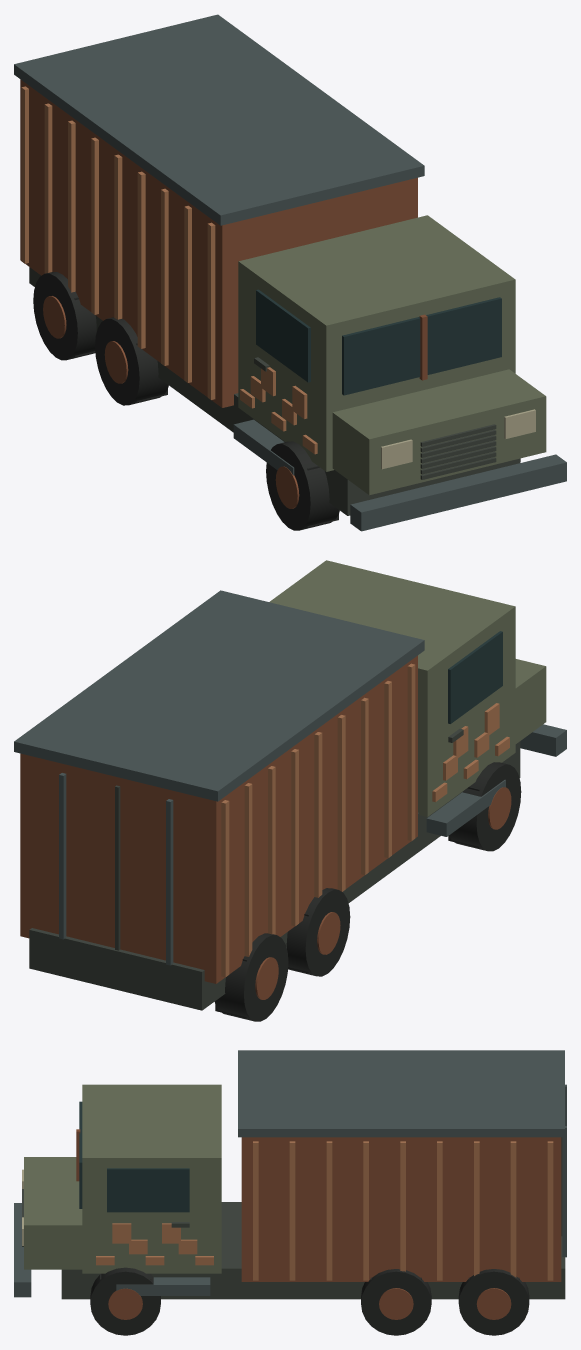
Rendered from FSA_ENV_Outdoor_Truck_01_Cargo.glb.
3 renders of one model, top to bottom at view 1: azimuth 30°, elevation 25°; view 2: azimuth 150°, elevation 25°; view 3: azimuth 270°, elevation 25°, orthographic. The views are drawn at different scales.
Visible parts, largest first — view 1: CargoRoof, CargoBody, Cab, Hood, Windshield, Bumper, Frame, Wheel_-1_2_5, Wheel_-1_-1_1, Wheel_-1_-2_4, SideWindow_-1, Rib_-1_5 (+14 smaller); view 2: CargoBody, CargoRoof, Cab, Frame, Wheel_-1_-2_4, Wheel_-1_-1_1, SideWindow_-1, Wheel_-1_2_5, Hood, Step_-1, Rib_-1_0, Rib_-1_8 (+14 smaller); view 3: CargoBody, CargoRoof, Cab, Frame, Hood, SideWindow_1, Wheel_1_-1_1, Wheel_1_-2_4, Wheel_1_2_5, Step_1, Bumper, Rib_1_0 (+14 smaller).
Boxes of the visible parts, <box> form: CargoRoof: <box>14,14,424,225</box>; CargoBody: <box>20,79,417,407</box>; Cab: <box>238,215,515,471</box>; Hood: <box>332,369,546,495</box>; Windshield: <box>342,297,501,395</box>; Bumper: <box>350,454,566,531</box>; Frame: <box>29,267,520,515</box>; Wheel_-1_2_5: <box>266,441,339,530</box>; Wheel_-1_-1_1: <box>95,317,168,405</box>; Wheel_-1_-2_4: <box>33,272,96,360</box>; SideWindow_-1: <box>256,289,310,382</box>; Rib_-1_5: <box>137,171,145,348</box>; CargoBody: <box>20,655,417,983</box>; CargoRoof: <box>14,590,424,801</box>; Cab: <box>269,560,515,816</box>; Frame: <box>29,741,520,1010</box>; Wheel_-1_-2_4: <box>214,933,288,1021</box>; Wheel_-1_-1_1: <box>286,888,350,976</box>; SideWindow_-1: <box>448,631,502,723</box>; Wheel_-1_2_5: <box>449,762,521,851</box>; Hood: <box>515,659,546,743</box>; Step_-1: <box>426,779,505,836</box>; Rib_-1_0: <box>221,800,229,977</box>; Rib_-1_8: <box>407,663,415,840</box>; CargoBody: <box>241,1137,561,1281</box>; CargoRoof: <box>238,1050,564,1137</box>; Cab: <box>82,1084,221,1273</box>; Frame: <box>61,1202,565,1299</box>; Hood: <box>24,1157,82,1269</box>; SideWindow_1: <box>107,1168,189,1212</box>; Wheel_1_-1_1: <box>361,1269,431,1335</box>; Wheel_1_-2_4: <box>458,1269,529,1335</box>; Wheel_1_2_5: <box>90,1267,160,1335</box>; Step_1: <box>116,1277,210,1295</box>; Bumper: <box>14,1203,31,1297</box>; Rib_1_0: <box>547,1141,553,1280</box>.
Size of the model in its own units: 2.6 by 3.01 by 7.36.
